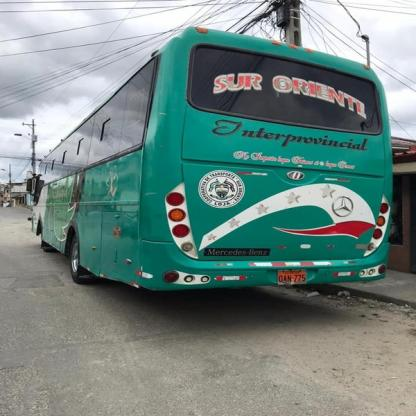Placa: (273, 266, 312, 289)
